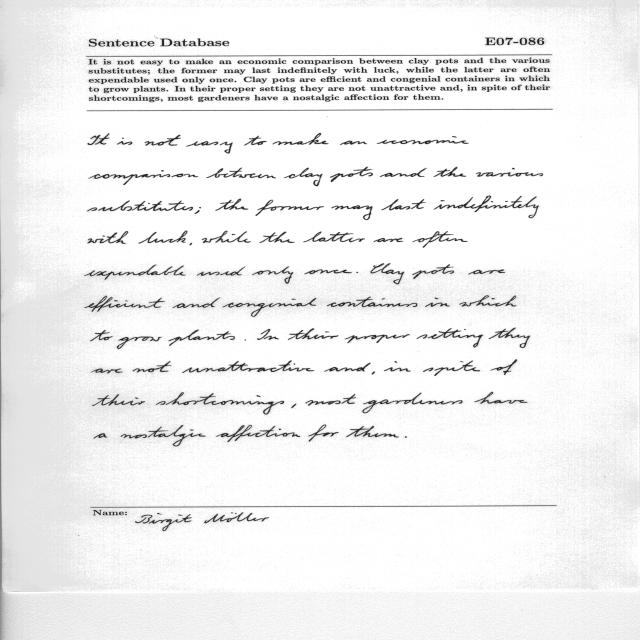word: (156, 392, 284, 415), (434, 196, 539, 218), (363, 393, 463, 413), (121, 425, 206, 446), (223, 298, 316, 317), (182, 360, 314, 373), (89, 170, 198, 185), (85, 265, 185, 280), (216, 425, 300, 442), (417, 328, 483, 348), (85, 296, 166, 312), (87, 201, 193, 212), (168, 329, 235, 346), (255, 200, 324, 216), (413, 231, 468, 248), (423, 360, 480, 376), (327, 297, 417, 307), (489, 328, 530, 348), (377, 136, 469, 144), (371, 264, 405, 285), (206, 168, 276, 178), (253, 267, 294, 284), (284, 168, 322, 186), (303, 232, 365, 243), (273, 133, 329, 145), (138, 231, 188, 244), (330, 167, 373, 182), (92, 394, 145, 406), (475, 392, 528, 404), (331, 205, 373, 220), (412, 265, 454, 280), (460, 296, 517, 307), (306, 394, 357, 406), (186, 141, 233, 154), (476, 168, 543, 177), (288, 328, 338, 340), (202, 231, 251, 243), (117, 336, 162, 349), (345, 334, 410, 343), (346, 426, 399, 437), (173, 298, 221, 309), (88, 231, 128, 244), (309, 425, 339, 442), (382, 199, 426, 210), (197, 266, 245, 276), (380, 168, 427, 177), (324, 363, 371, 372), (133, 361, 171, 372), (491, 359, 517, 375), (145, 135, 181, 146), (215, 199, 248, 211), (260, 232, 295, 243), (434, 167, 466, 177), (384, 361, 411, 372), (90, 330, 113, 341), (88, 133, 109, 145), (257, 329, 279, 340), (305, 270, 352, 275), (244, 136, 267, 146), (425, 298, 450, 307), (468, 270, 505, 275), (92, 369, 123, 374), (117, 137, 132, 145), (374, 238, 403, 242), (340, 141, 367, 145), (94, 433, 107, 439), (195, 207, 201, 214), (292, 404, 297, 408), (372, 372, 375, 375), (190, 243, 193, 245), (405, 436, 407, 438), (356, 272, 358, 273), (245, 340, 246, 341)
